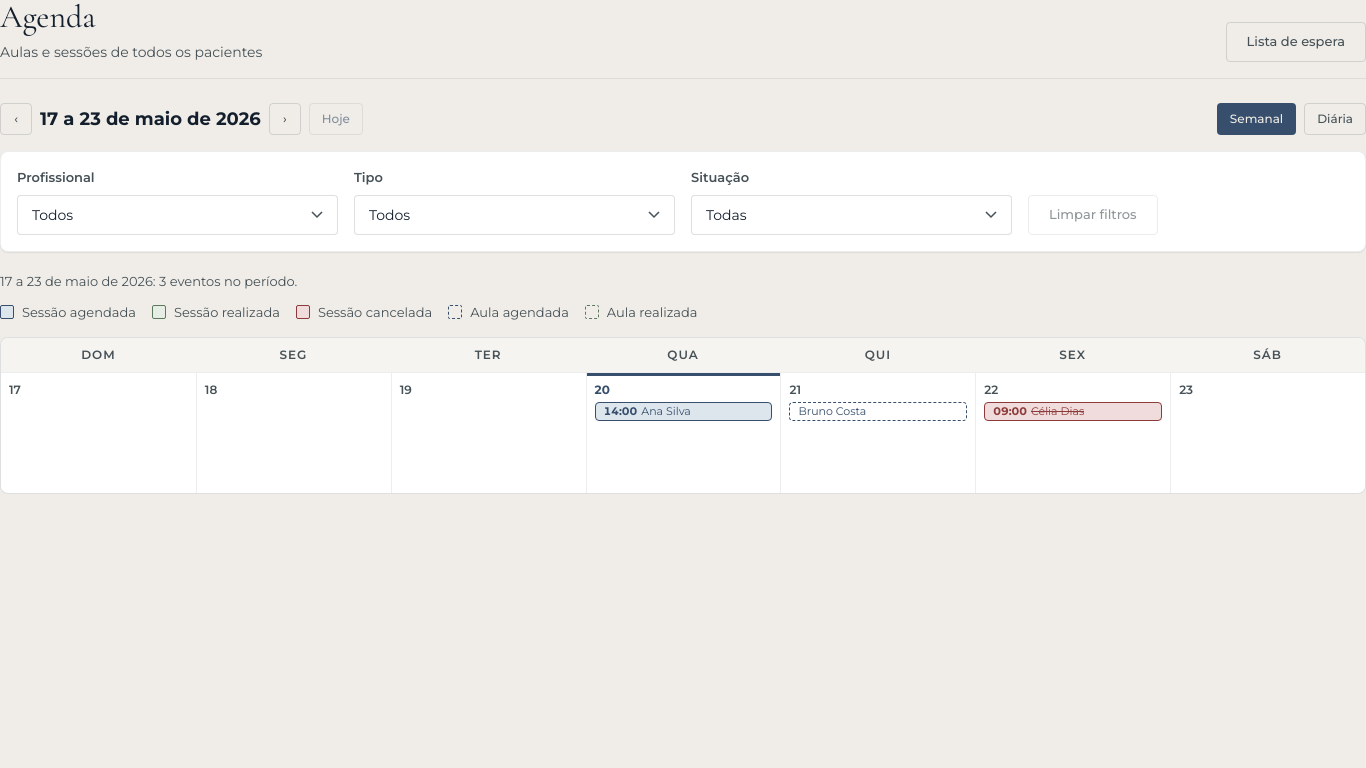
AgendaComponent › detalhe e ações rápidas › should cancel a session through the danger confirmation
Click the button with class "evento" showing "14:00 Ana Silva": (684, 412) [595,402,772,421]
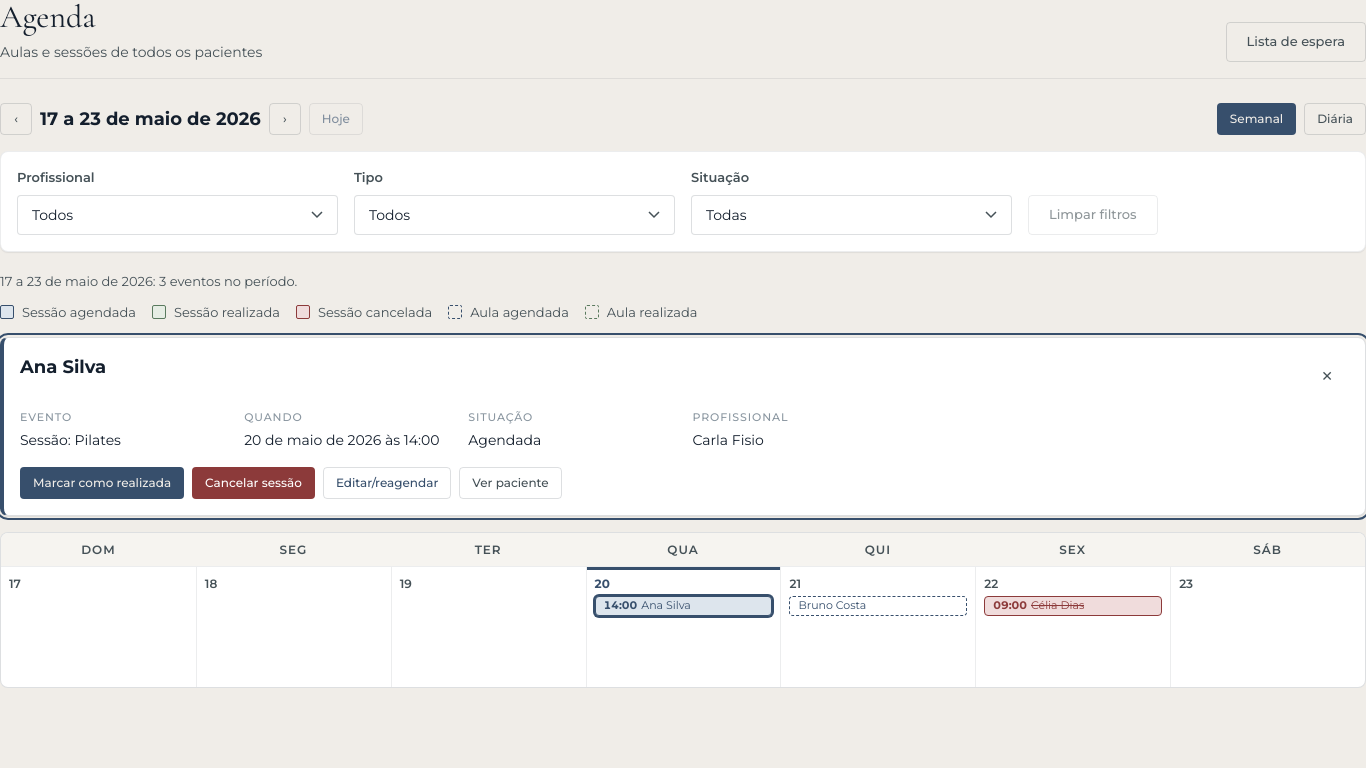
Click the button with class "btn-danger": (254, 483) [192,467,315,499]
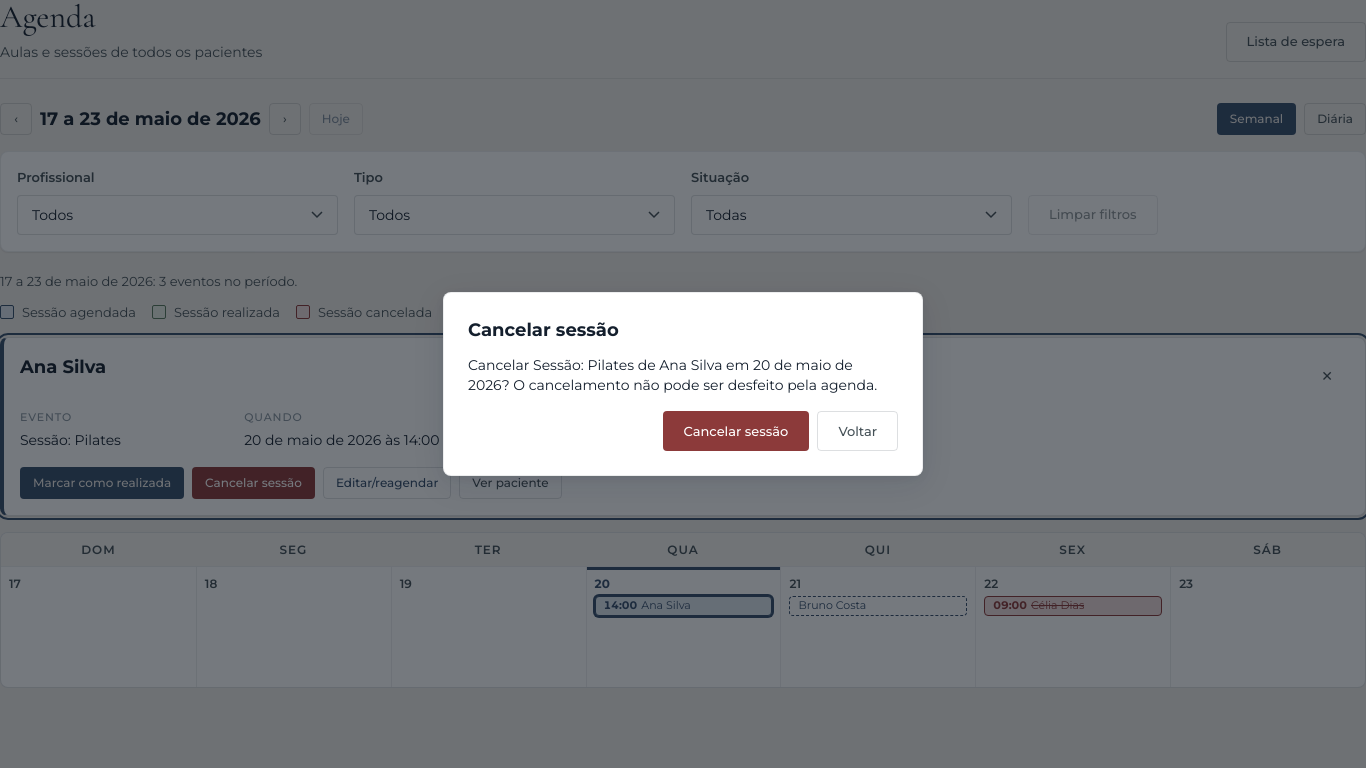
Check: the button with class "btn-danger" next to "Editar/reagendar" reads "Cancelar sessão", box [192,467,315,499]
Click the button "Cancelar sessão": (736, 431) [662,411,809,451]
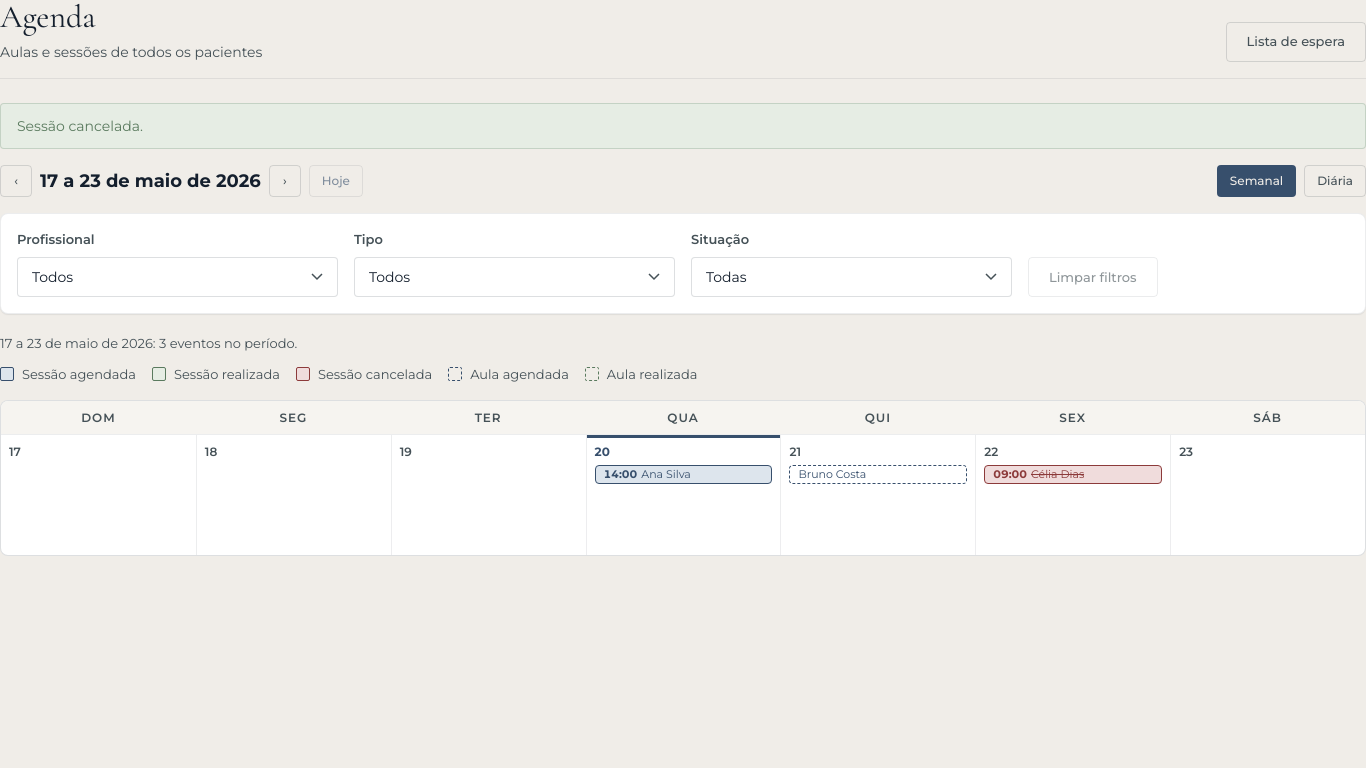
Check: the message with class "alert-success" reads "Sessão cancelada.", box [17,117,143,135]
